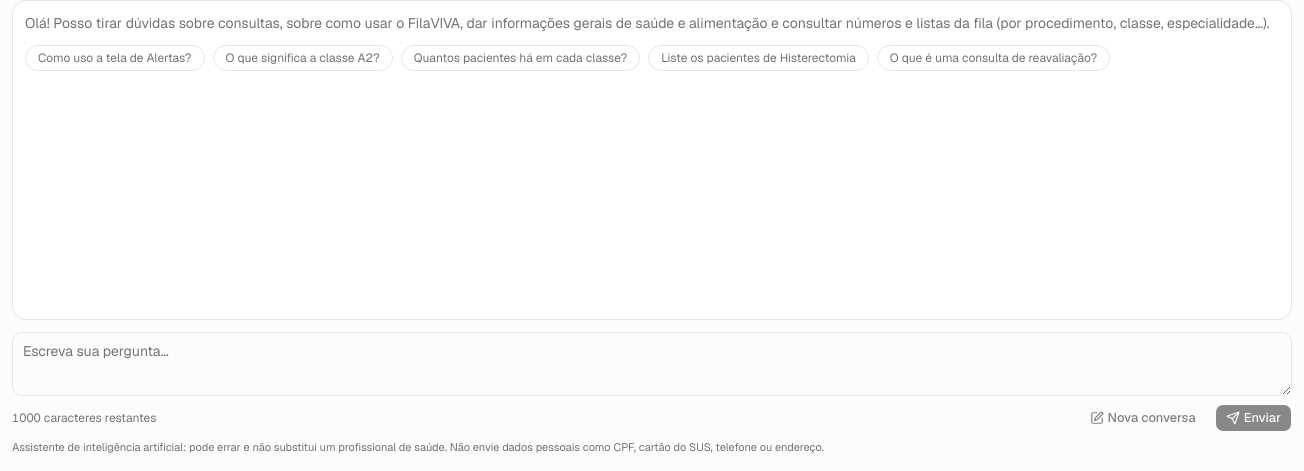
Test: Chat: conversa › mostra a pergunta e a resposta chegando em pedaços, e limpa o campo
Type "O que a tela de alertas mostra?" into the text box labelled "sua pergunta" at (652, 364), box [12,332,1292,396]
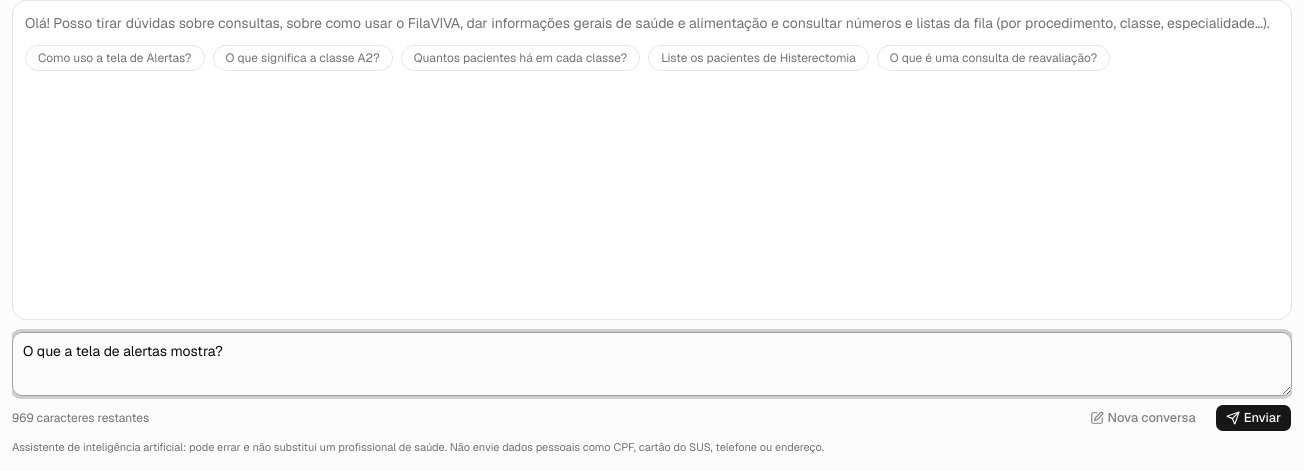
Click the button "Enviar" at (1253, 418), box [1215,404,1292,432]
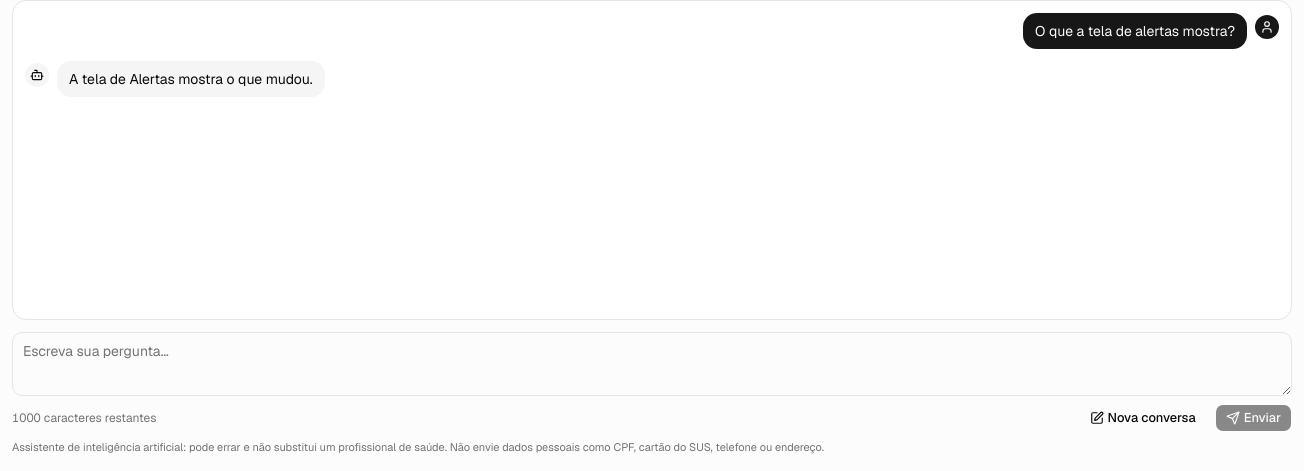
Expected: the text "A tela de Alertas mostra o que mudou." is shown, [57,61,325,97]
Expected: the text "O que a tela de alertas mostra?" is shown, [1023,13,1247,49]
Expected: the text box labelled "sua pergunta" is empty, [12,332,1292,396]
